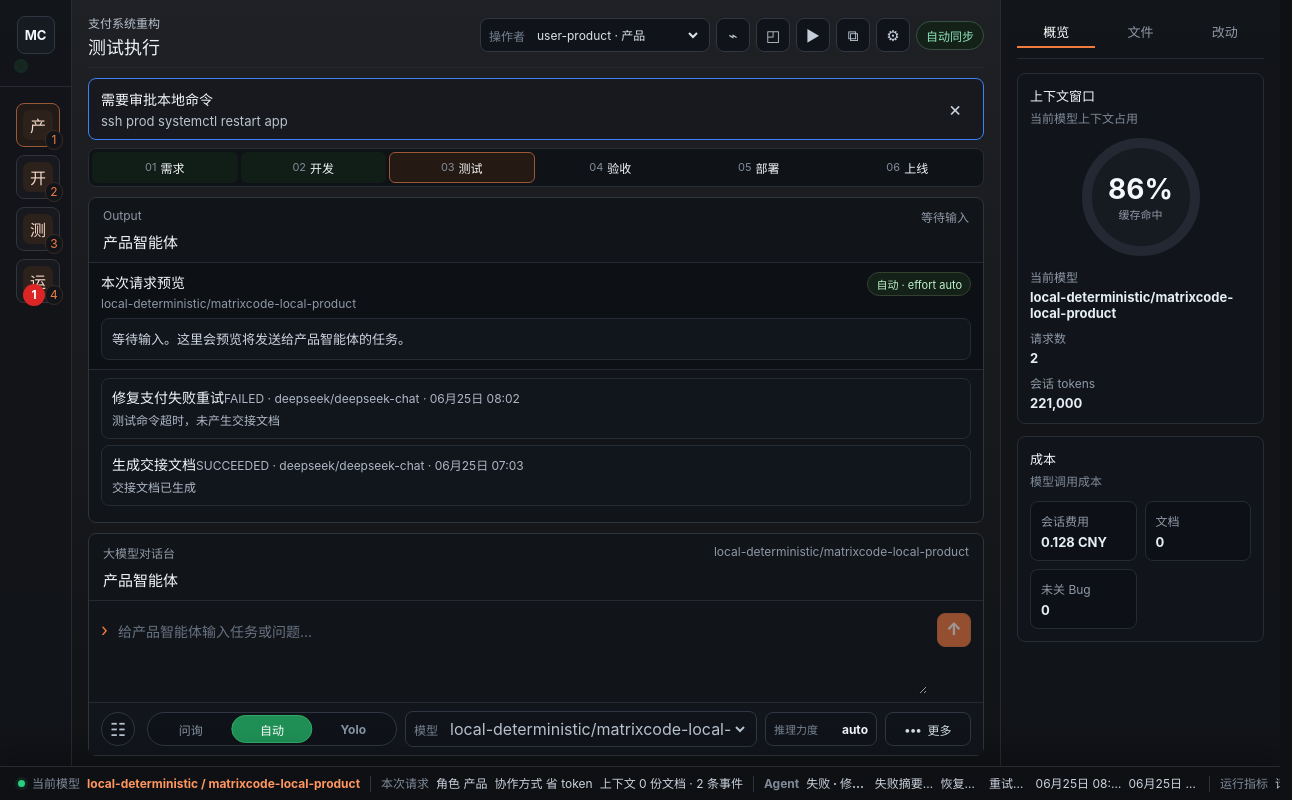
Scenario: MatrixCode 桌面工作台 › 底部Composer会在模型完成前实时展示流式片段
This screenshot has width=1292, height=800.
expect the text "支付系统重构" is shown: met, box [88,16,160,33]
Type "请输出实时计划" into the text box named "Agent 对话输入" at {"x": 522, "y": 653}, box [118,613,927,694]
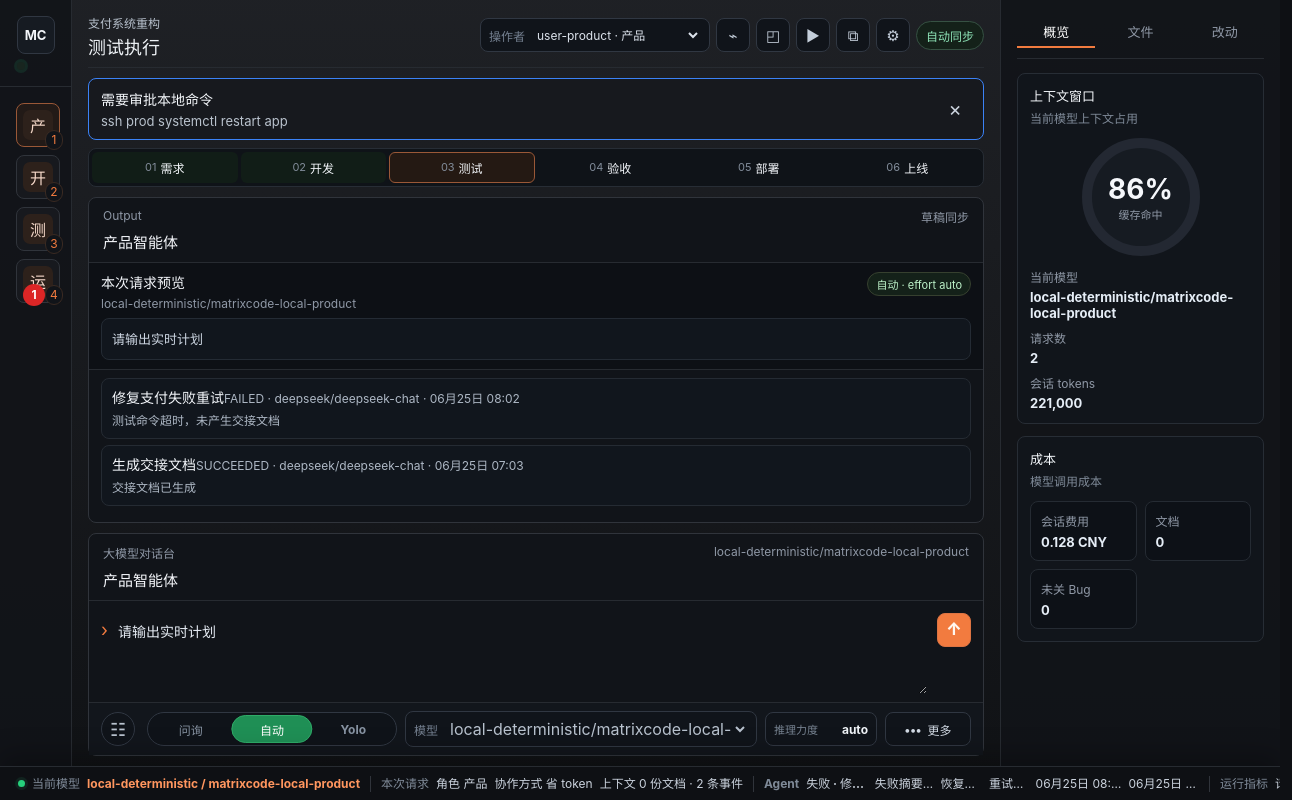
Click the button named "发送给角色智能体" at {"x": 954, "y": 630}, box [937,613,971,647]
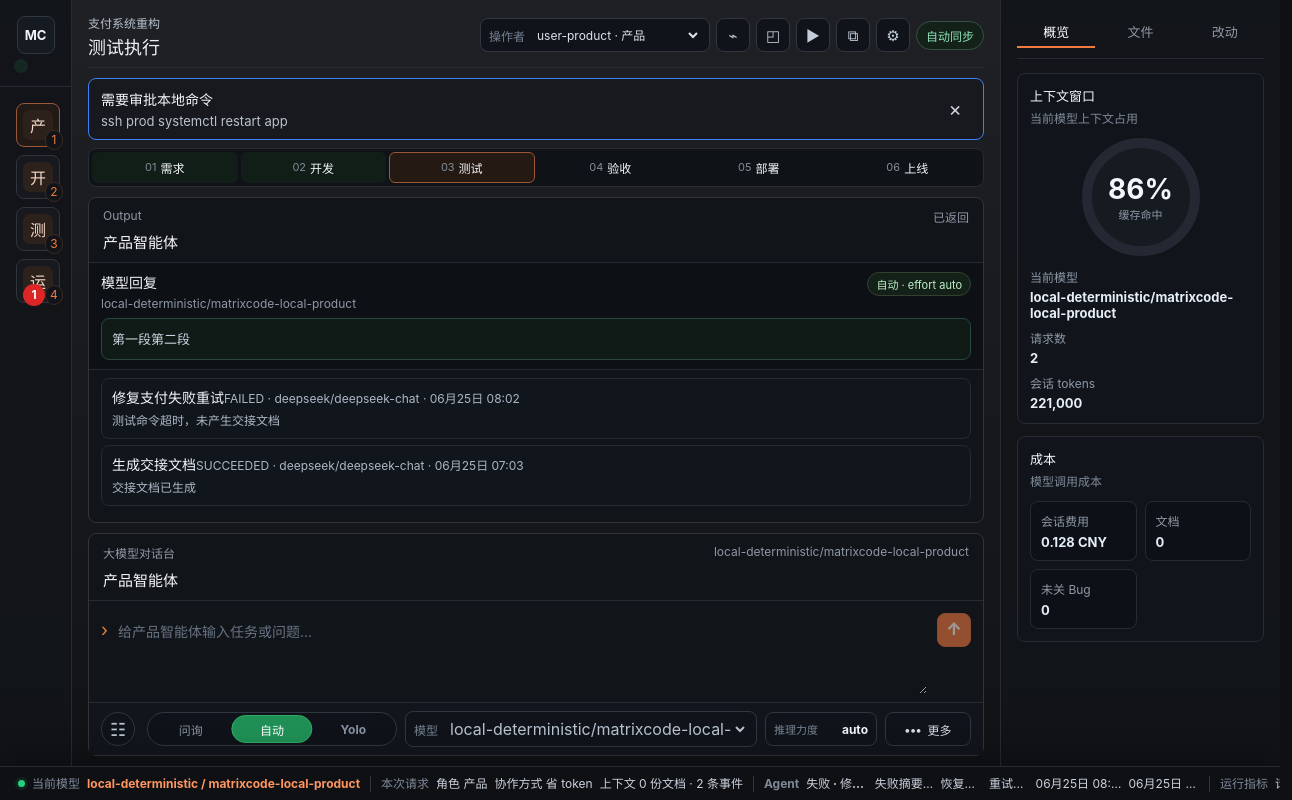
expect the text "模型流式回复" is shown: met, box [101,274,157,291]
expect the text "第一段第二段" is shown: met, box [101,318,971,360]
